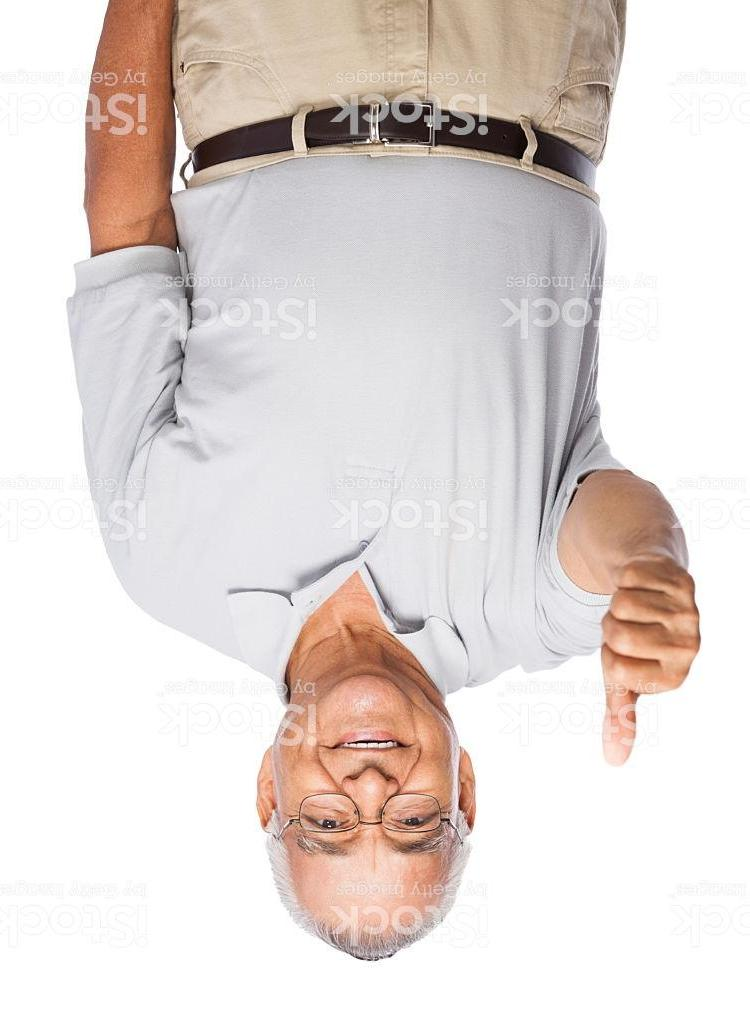thumbsdown: (600, 560, 701, 767)
